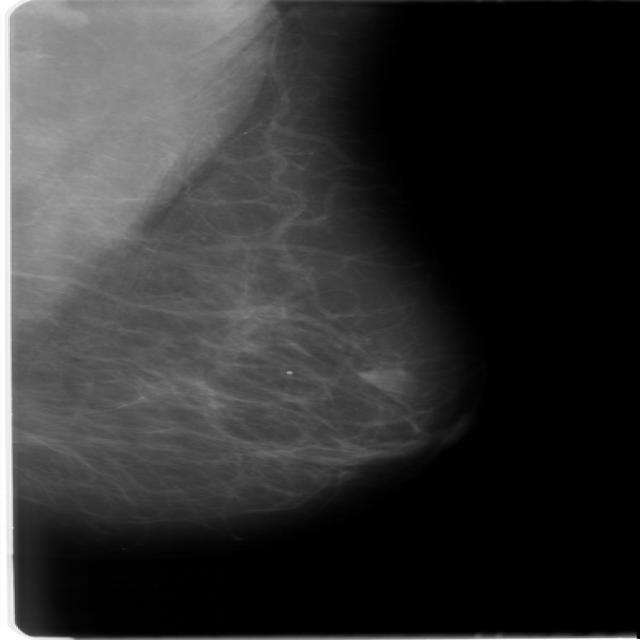tumour: (355, 366, 412, 392)
